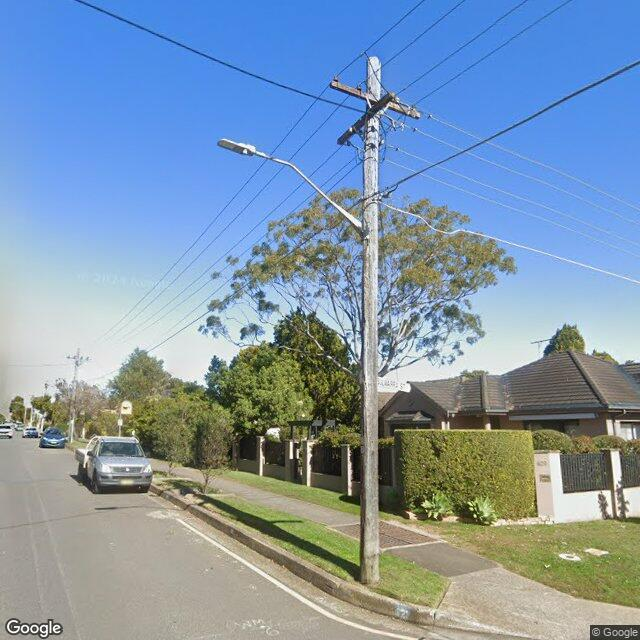crossarm: (330, 80, 420, 120), (336, 90, 396, 146), (66, 354, 90, 360)
streetlight: (217, 139, 364, 236)
timber-pole: (360, 57, 380, 586), (70, 347, 80, 442)
